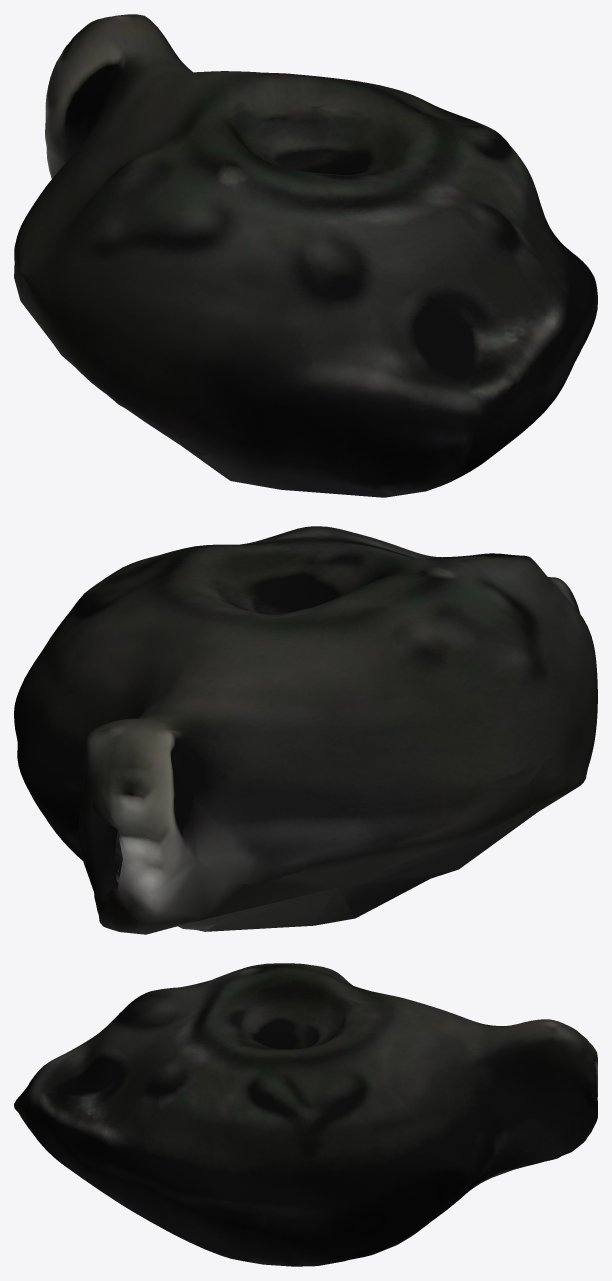
Rendered from Cnidian_lamp.fbx.
3 views of the same model, one above another, from view 1: azimuth 30°, elevation 25°; view 2: azimuth 150°, elevation 25°; view 3: azimuth 270°, elevation 25° (orthographic). The views are drawn at different scales.
Parts seen in each view (by area): view 1: Object; view 2: Object; view 3: Object.
Boxes of the visible parts, box(x1,y1,x2,y2) form: Object: box(14, 14, 597, 497); Object: box(14, 526, 597, 934); Object: box(14, 963, 597, 1266).
Size of the model in its own units: 66.42 by 38.1 by 95.7.
